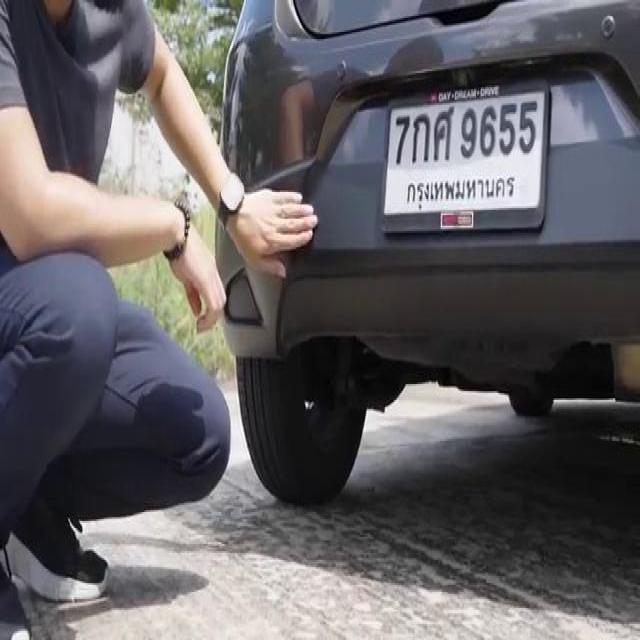Hatchback: (215, 0, 639, 501)
